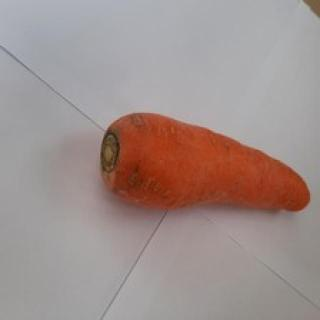carrot: (104, 112, 310, 212)
